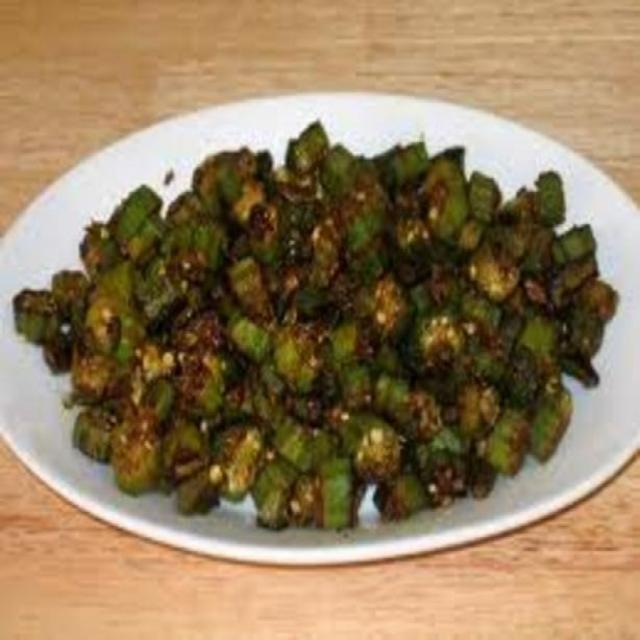BhindiMasala: (0, 120, 640, 532)
